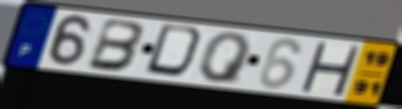6: (256, 37, 307, 91), (46, 13, 96, 68)
B: (83, 17, 148, 74)
D: (142, 22, 210, 81)
H: (298, 40, 363, 98)
Q: (197, 31, 254, 86)
